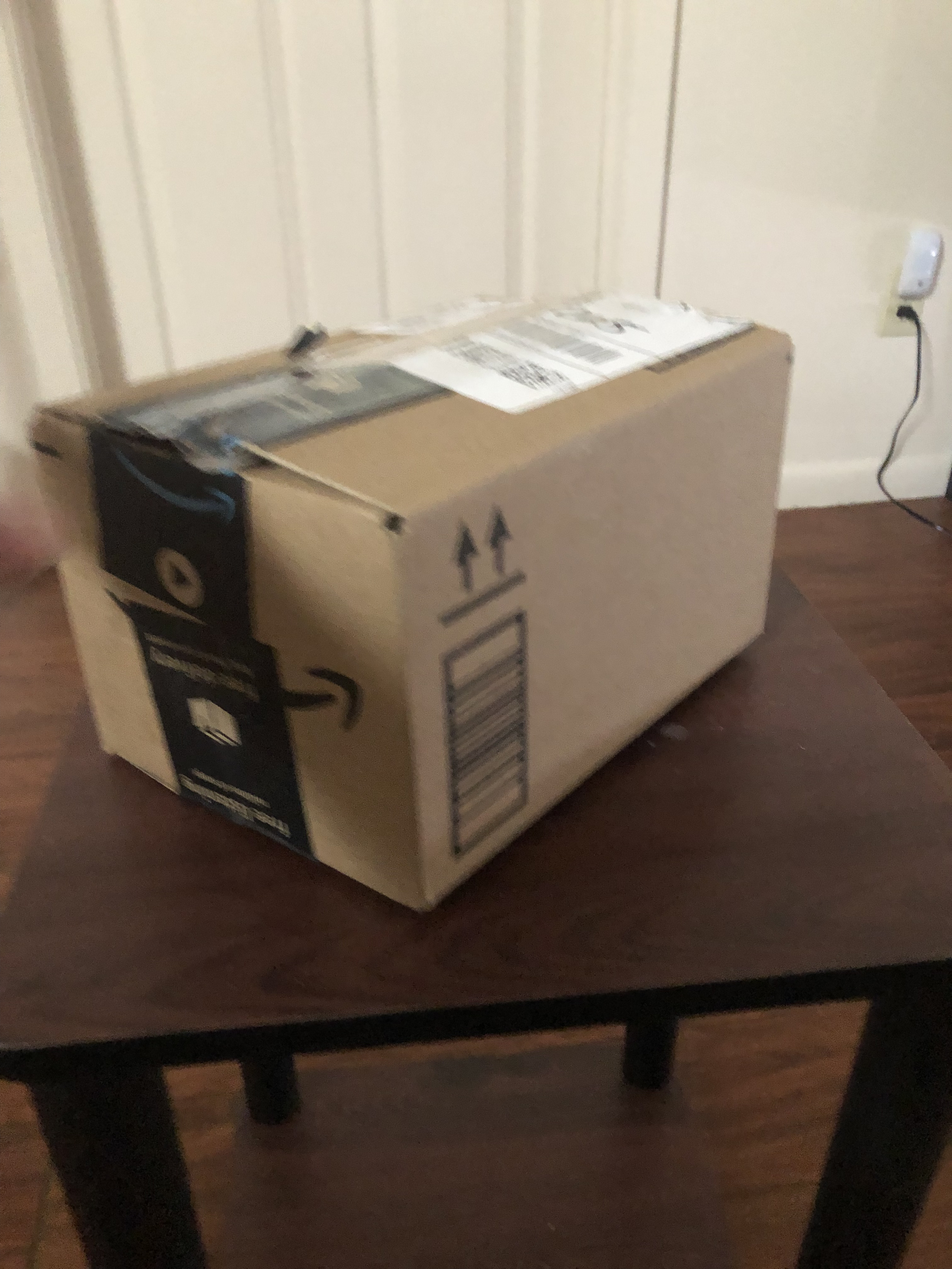package: (21, 291, 797, 924)
